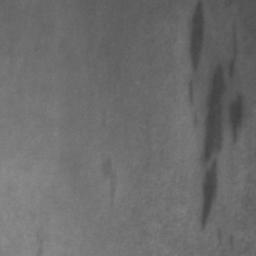Inclusion: (205, 65, 229, 160), (201, 163, 220, 228), (191, 0, 205, 69), (230, 99, 244, 132)
